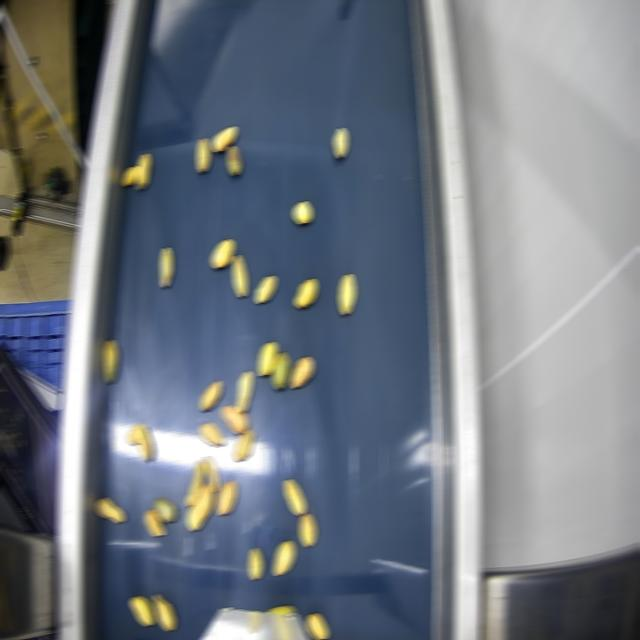Baby Potato: (187, 484, 214, 530), (127, 424, 152, 460), (186, 461, 205, 506), (154, 594, 175, 631), (284, 479, 305, 515), (273, 541, 294, 575), (96, 497, 123, 523), (222, 406, 247, 434), (130, 596, 153, 626), (211, 239, 234, 268), (217, 480, 236, 515), (291, 357, 312, 388), (272, 352, 289, 389), (339, 273, 354, 314), (295, 279, 316, 308), (234, 429, 253, 461), (237, 371, 252, 411), (212, 126, 235, 152), (104, 339, 117, 383), (259, 342, 276, 375), (201, 381, 220, 410), (306, 613, 327, 639), (233, 255, 246, 297), (204, 456, 219, 492), (256, 275, 275, 303), (200, 423, 223, 446), (154, 497, 175, 522), (300, 513, 315, 546), (145, 510, 164, 536), (136, 153, 149, 190), (160, 249, 171, 287), (249, 548, 262, 580), (334, 127, 347, 158), (294, 200, 311, 223), (198, 138, 209, 172), (229, 145, 240, 175), (268, 603, 296, 614), (123, 166, 138, 186)
